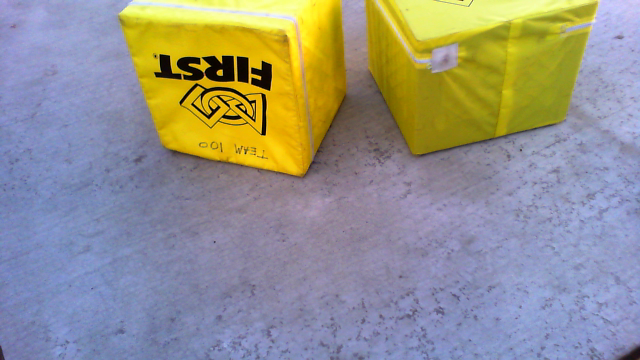cube: (115, 1, 345, 179), (366, 1, 602, 157)
